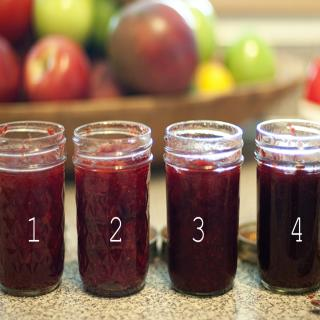tomato: (13, 35, 99, 105)
